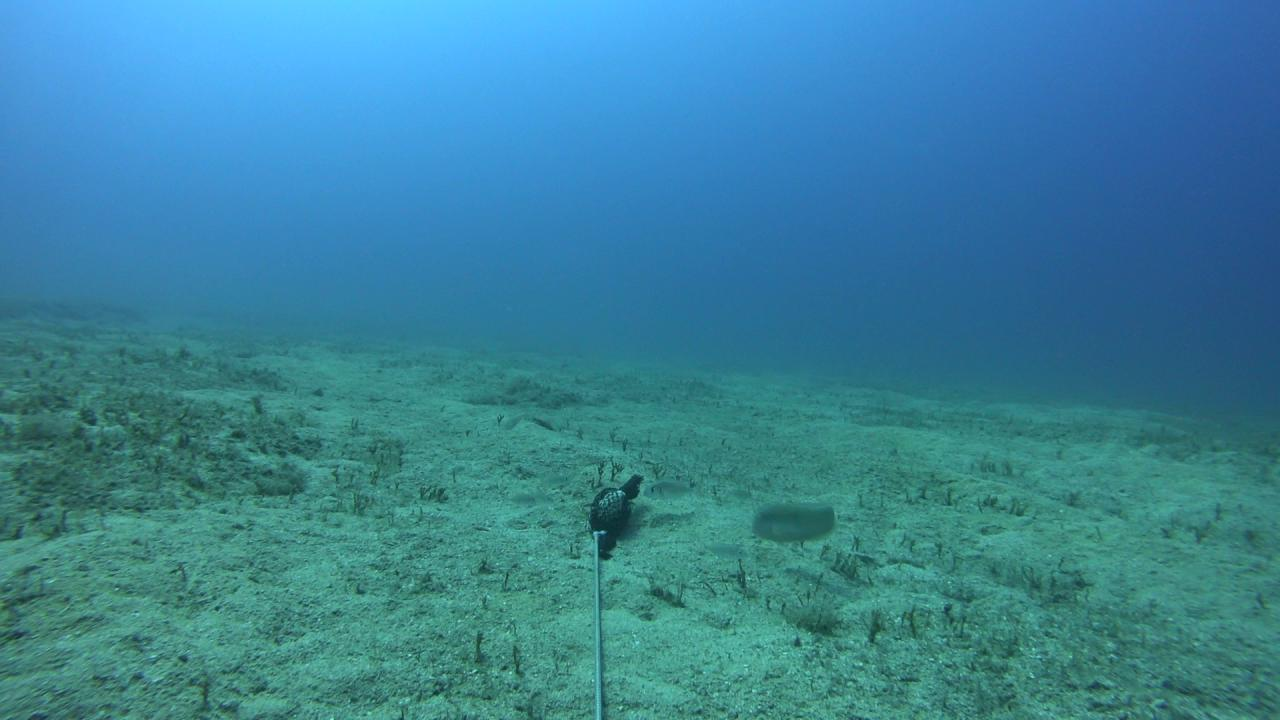pagellus: (641, 477, 702, 501), (699, 538, 753, 559)
raor: (753, 499, 838, 542)
